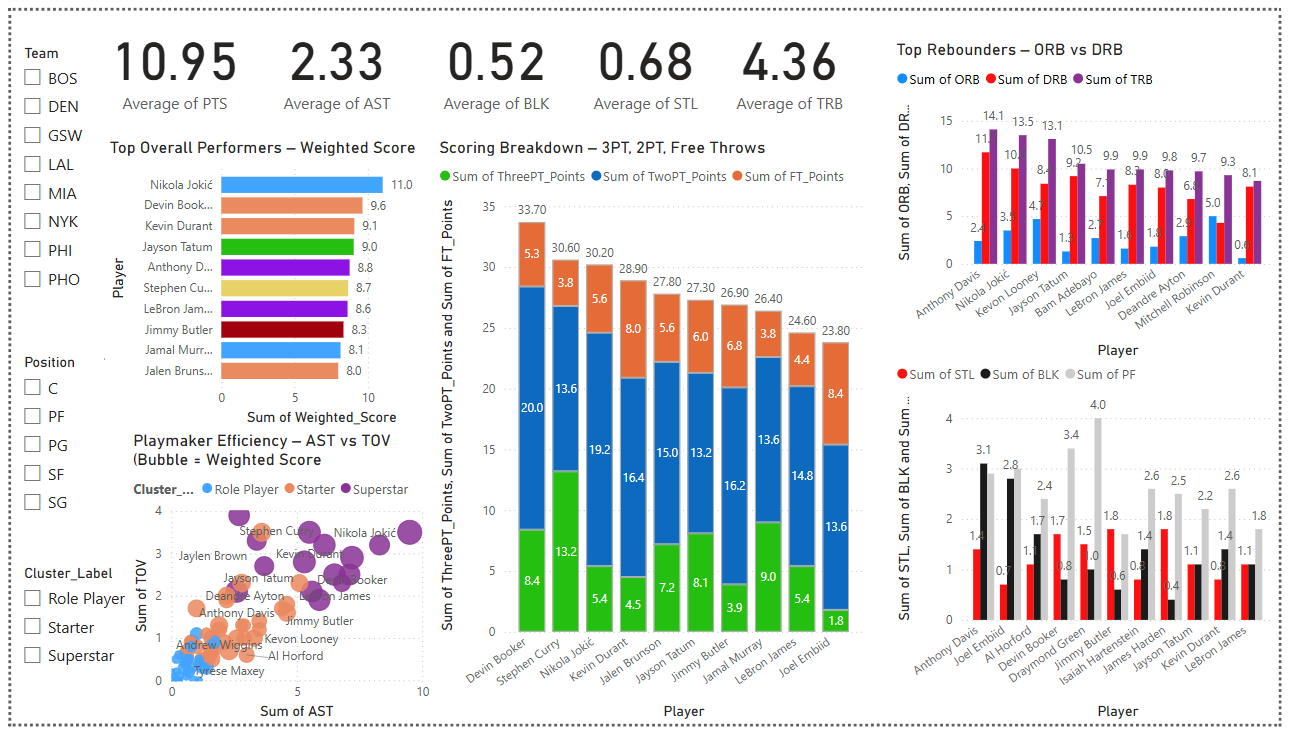

This screenshot's page, from the dashboard's own definition file:
{"tool":"powerbi","page":{"name":"Page 1","canvas":[1280,720],"ordinal":0},"visuals":[{"type":"slicer","fields":{"Values":["nba_2023_cleaned.Team"]},"box":[0,29.1,94.5,260],"z":0},{"type":"slicer","fields":{"Values":["nba_2023_cleaned.Position"]},"box":[0,341.8,118.2,198.2],"z":1},{"type":"slicer","fields":{"Values":["nba_2023_cleaned.Cluster_Label"]},"box":[0,554.5,145.5,121.8],"z":2},{"type":"card","fields":{"Values":["nba_2023_cleaned.PTS"]},"box":[94.5,0,141.8,109.1],"z":3},{"type":"card","fields":{"Values":["nba_2023_cleaned.AST"]},"box":[265.5,0,127.3,109.1],"z":4},{"type":"card","fields":{"Values":["nba_2023_cleaned.TRB"]},"box":[707.3,0,158.2,109.1],"z":5},{"type":"card","fields":{"Values":["nba_2023_cleaned.STL"]},"box":[581.8,0,118.2,109.1],"z":6},{"type":"card","fields":{"Values":["nba_2023_cleaned.BLK"]},"box":[427.3,0,125.5,109.1],"z":8},{"type":"clusteredBarChart","title":"Top Overall Performers – Weighted Score","fields":{"Category":["nba_2023_cleaned.Player"],"Y":["nba_2023_cleaned.Weighted_Score"]},"box":[94.5,127.3,332.7,296.4],"z":9},{"type":"columnChart","title":"Scoring Breakdown – 3PT, 2PT, Free Throws","fields":{"Category":["nba_2023_cleaned.Player"],"Y":["nba_2023_cleaned.ThreePT_Points","nba_2023_cleaned.TwoPT_Points","nba_2023_cleaned.FT_Points"]},"box":[427.3,127.3,438.2,592.7],"z":10},{"type":"scatterChart","title":"Playmaker Efficiency – AST vs TOV (Bubble = Weighted Score","fields":{"X":["nba_2023_cleaned.AST"],"Y":["nba_2023_cleaned.TOV"],"Category":["nba_2023_cleaned.Player"],"Size":["nba_2023_cleaned.Weighted_Score"],"Series":["nba_2023_cleaned.Cluster_Label"]},"box":[118.2,423.6,309.1,296.4],"z":11},{"type":"clusteredColumnChart","title":"Top Defenders – Steals, Blocks & Fouls","fields":{"Category":["nba_2023_cleaned.Player"],"Y":["nba_2023_cleaned.STL","nba_2023_cleaned.BLK","nba_2023_cleaned.PF"]},"box":[889.1,327.3,390.9,392.7],"z":12},{"type":"clusteredColumnChart","title":"Top Rebounders – ORB vs DRB","fields":{"Category":["nba_2023_cleaned.Player"],"Y":["nba_2023_cleaned.ORB","nba_2023_cleaned.DRB","nba_2023_cleaned.TRB"]},"box":[889.1,29.1,390.9,327.3],"z":13}]}

Visuals, with their boxes in screenshot pixels (x1, y1, x2, y2), scaled from the page's 1280x720 canvas onto the 1300x737 screenshot:
slicer - nba_2023_cleaned.Team: left=0, top=30, right=96, bottom=296
slicer - nba_2023_cleaned.Position: left=0, top=350, right=120, bottom=553
slicer - nba_2023_cleaned.Cluster_Label: left=0, top=568, right=148, bottom=692
card - nba_2023_cleaned.PTS: left=96, top=0, right=240, bottom=112
card - nba_2023_cleaned.AST: left=270, top=0, right=399, bottom=112
card - nba_2023_cleaned.TRB: left=718, top=0, right=879, bottom=112
card - nba_2023_cleaned.STL: left=591, top=0, right=711, bottom=112
card - nba_2023_cleaned.BLK: left=434, top=0, right=561, bottom=112
"Top Overall Performers – Weighted Score" clusteredBarChart: left=96, top=130, right=434, bottom=434
"Scoring Breakdown – 3PT, 2PT, Free Throws" columnChart: left=434, top=130, right=879, bottom=736
"Playmaker Efficiency – AST vs TOV (Bubble = Weighted Score" scatterChart: left=120, top=434, right=434, bottom=736
"Top Defenders – Steals, Blocks & Fouls" clusteredColumnChart: left=903, top=335, right=1299, bottom=736
"Top Rebounders – ORB vs DRB" clusteredColumnChart: left=903, top=30, right=1299, bottom=365
